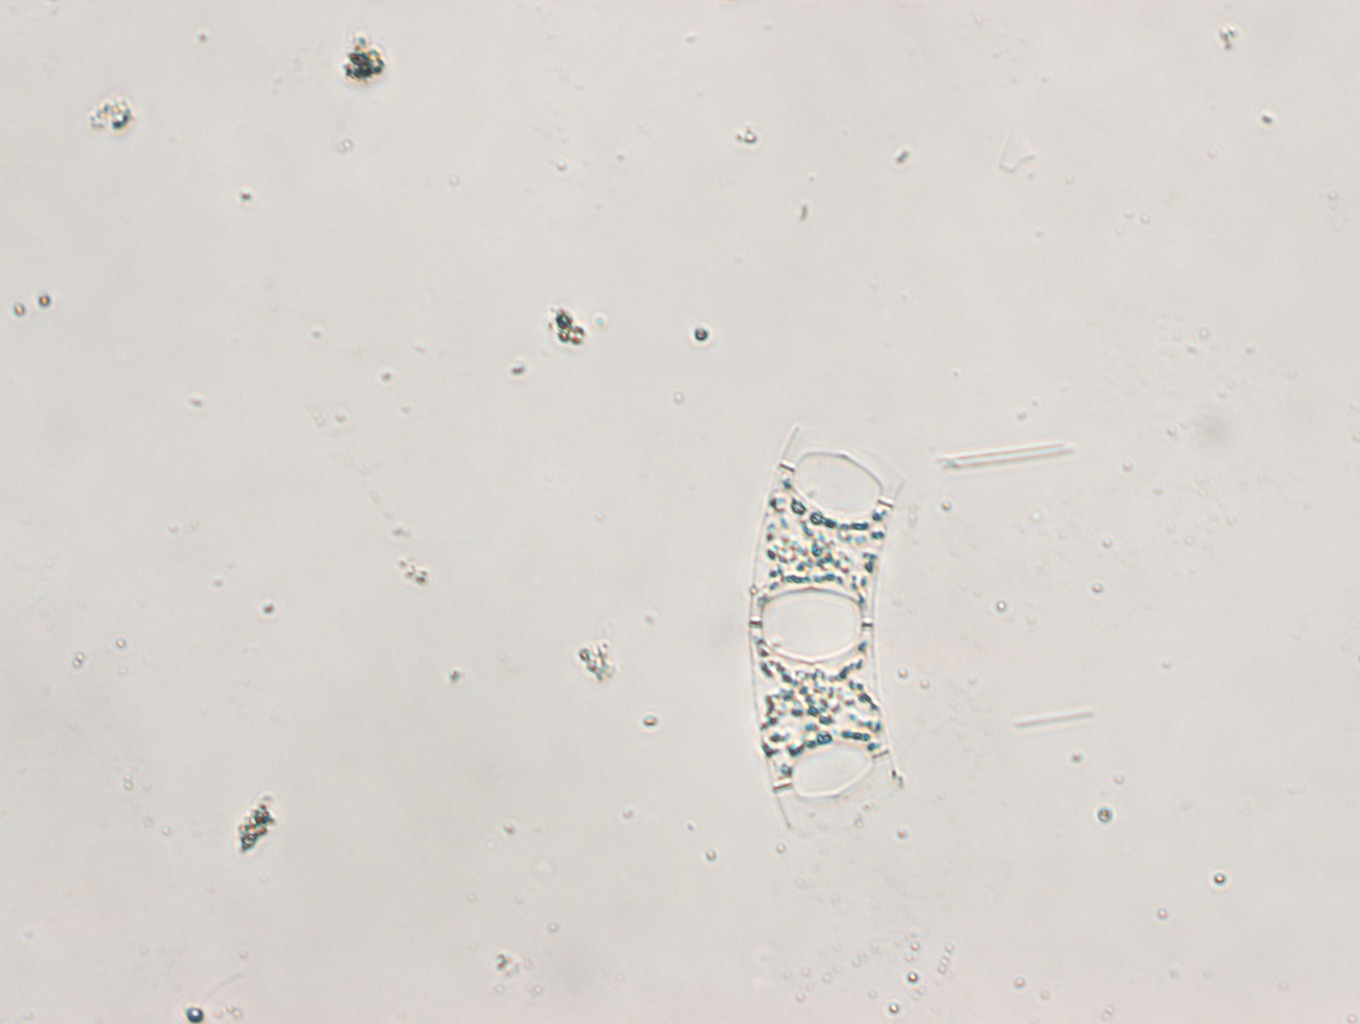eucampia: (747, 414, 911, 841)
